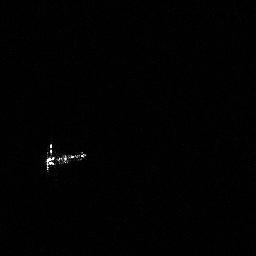ship: (41, 140, 90, 176)
